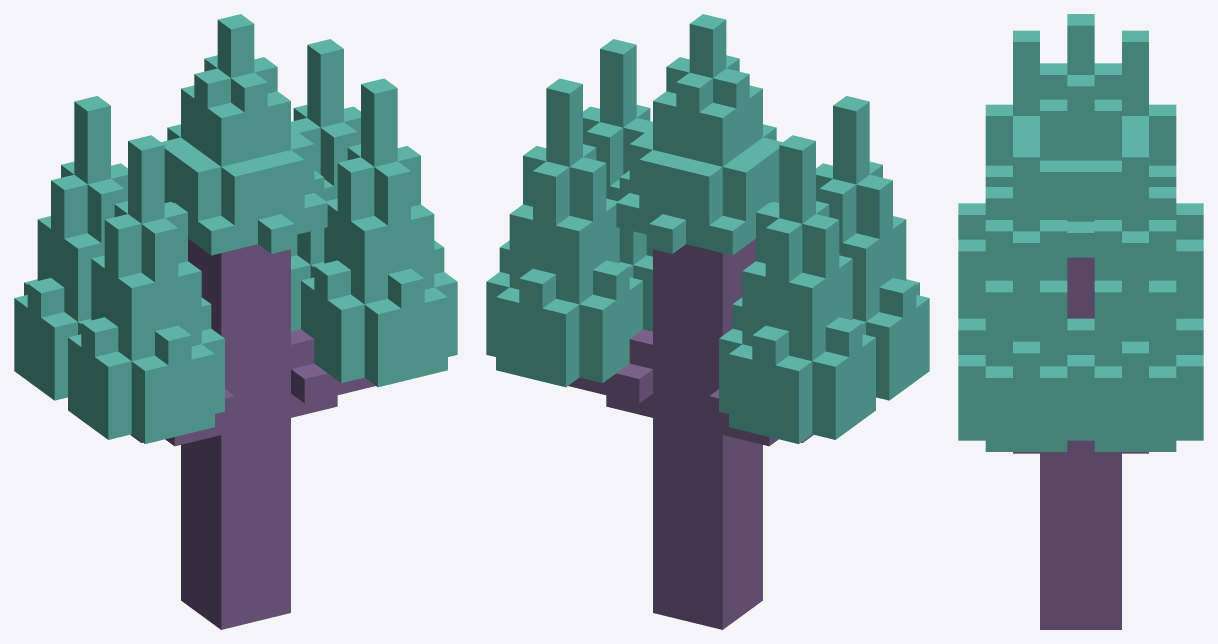
File: alien-biosphere-candelabrum-tree-8b1947cf__22689.glb
3 views of the same model, side by side, from view 1: azimuth 30°, elevation 25°; view 2: azimuth 150°, elevation 25°; view 3: azimuth 270°, elevation 25° (orthographic).
Parts seen in each view (by area): view 1: candelabrum-tree; view 2: candelabrum-tree; view 3: candelabrum-tree.
Boxes of the visible parts, x1,y1,x2,y2 form: candelabrum-tree: (14, 14, 457, 629); candelabrum-tree: (486, 14, 929, 629); candelabrum-tree: (958, 14, 1203, 629).
Bounding box in the file's own units: 3 × 4.8 × 1.8.
